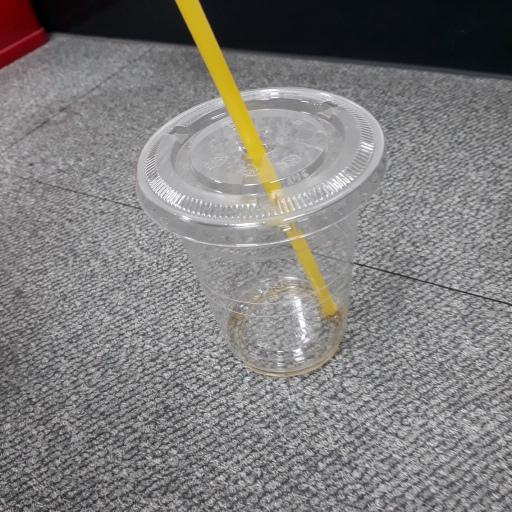Plastic_2: (135, 2, 387, 374)
